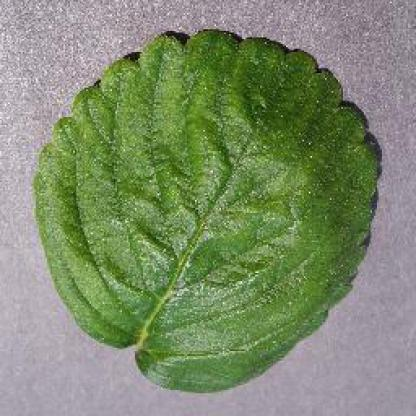healthy: (28, 19, 392, 403)
